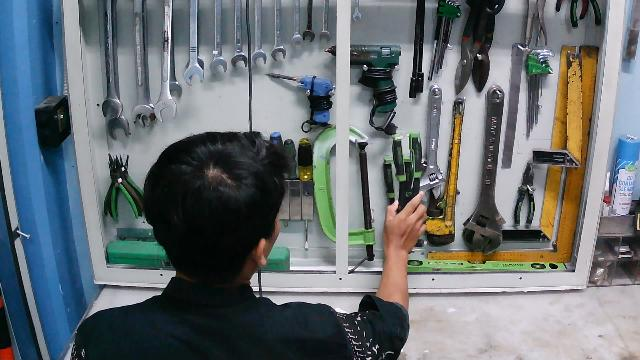tang_rivet: (391, 133, 428, 250)
